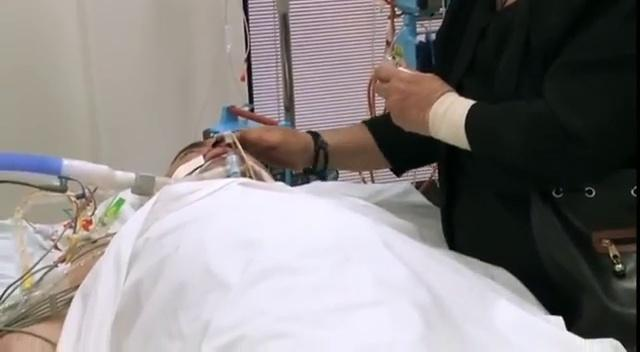others: (205, 0, 637, 350)
patient: (49, 110, 629, 351)
